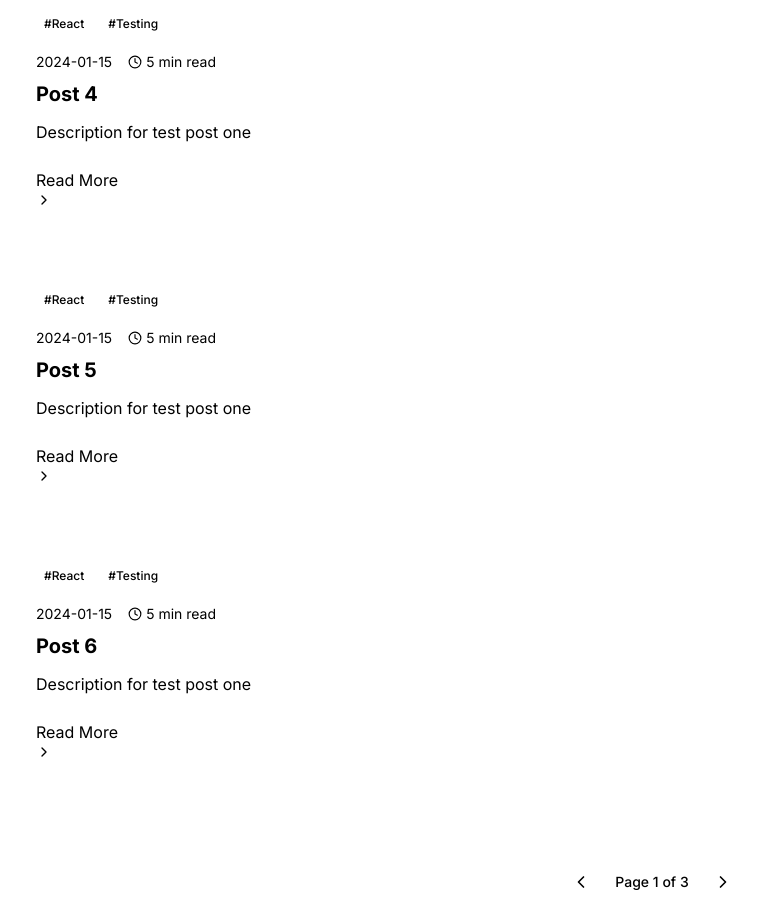
Test: BlogList Component › paginates posts
The image size is (759, 900).
(page scrolled)
Expected: the link "Post 6" is shown, [36,634,97,658]
Expected: the text "Post 7" is not shown
// Go to next page
Step 1. Click the button titled "next" → (723, 882), box [705,864,741,899]
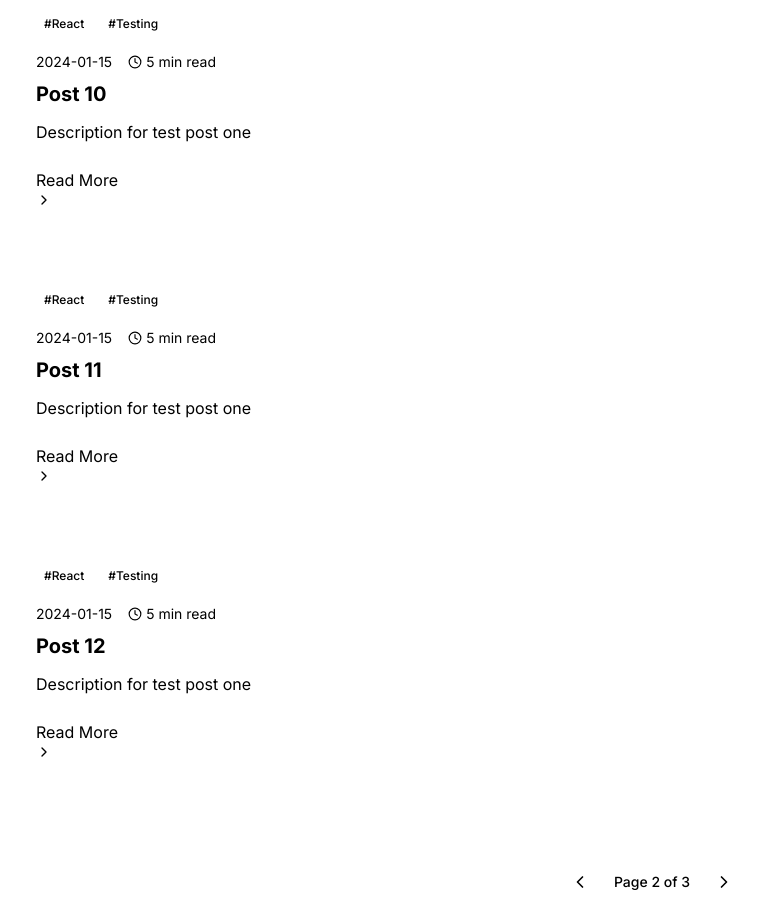
Step 2. Click the button titled "next" → (724, 882), box [706,864,742,899]
(page scrolled)
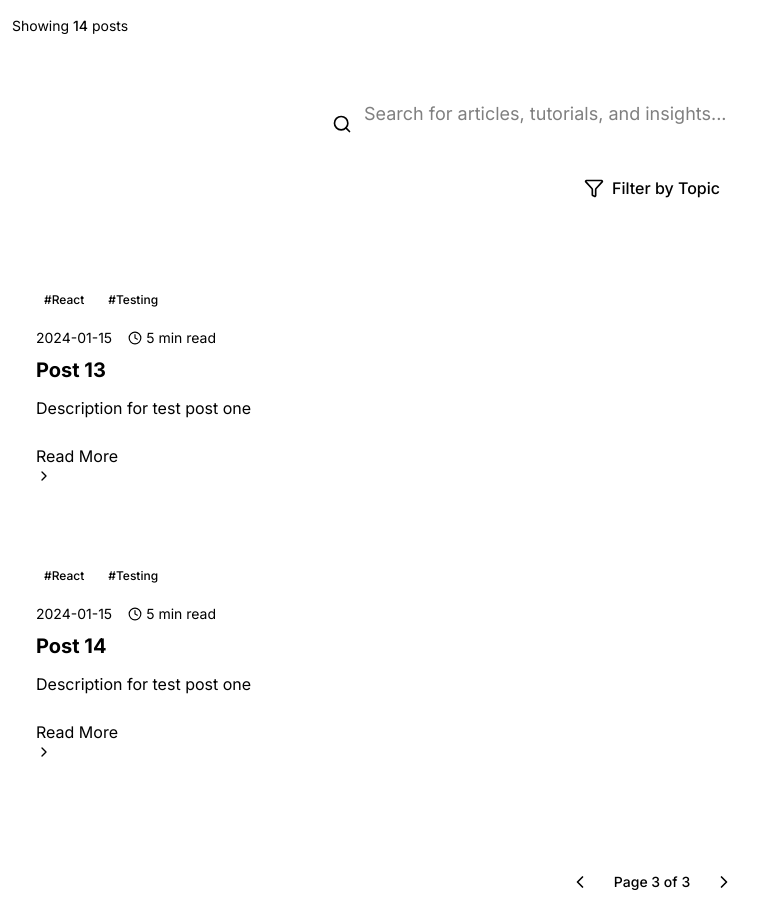
Now the link "Post 13" is shown, box [36,358,106,382]
//  Go back
Step 3. Click the button titled "previous" → (580, 882), box [562,864,598,899]
(page scrolled)
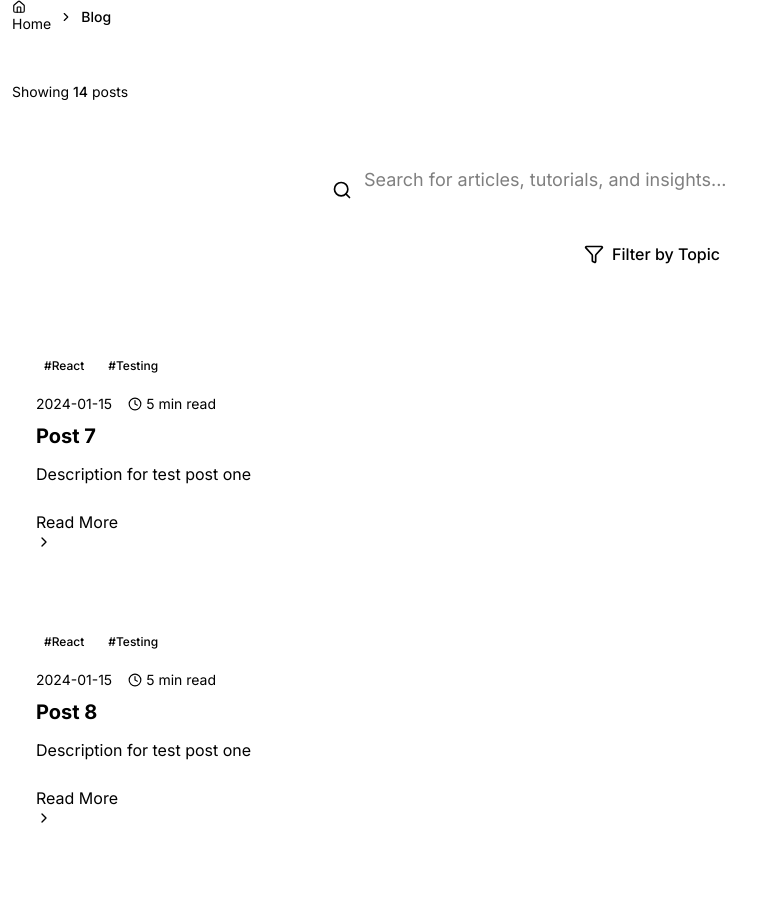
Now the link "Post 7" is shown, box [36,424,96,448]
